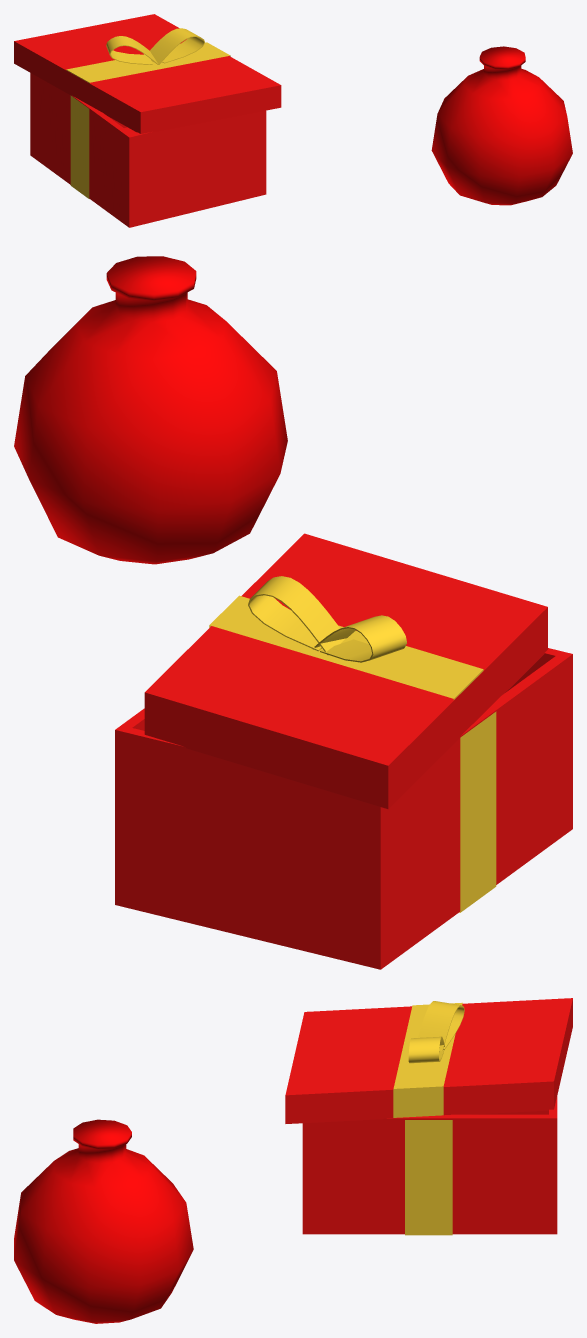
The model's file is ball.FBX.
3 views of the same model, one above another, from view 1: azimuth 30°, elevation 25°; view 2: azimuth 150°, elevation 25°; view 3: azimuth 270°, elevation 25° (orthographic). The views are drawn at different scales.
Parts seen in each view (by area): view 1: Box002, Line002, Sphere001; view 2: Box002, Line002, Sphere001; view 3: Line002, Box002, Sphere001.
Part boxes in pixels (x1,y1,x2,y2): Box002: (30, 73, 266, 227); Line002: (14, 14, 281, 133); Sphere001: (431, 46, 572, 205); Box002: (115, 648, 572, 969); Line002: (144, 533, 547, 809); Sphere001: (14, 256, 287, 564); Line002: (285, 998, 572, 1123); Box002: (302, 1096, 557, 1235); Sphere001: (14, 1119, 193, 1323).
Size of the model in its own units: 18.83 by 7.71 by 19.36.
